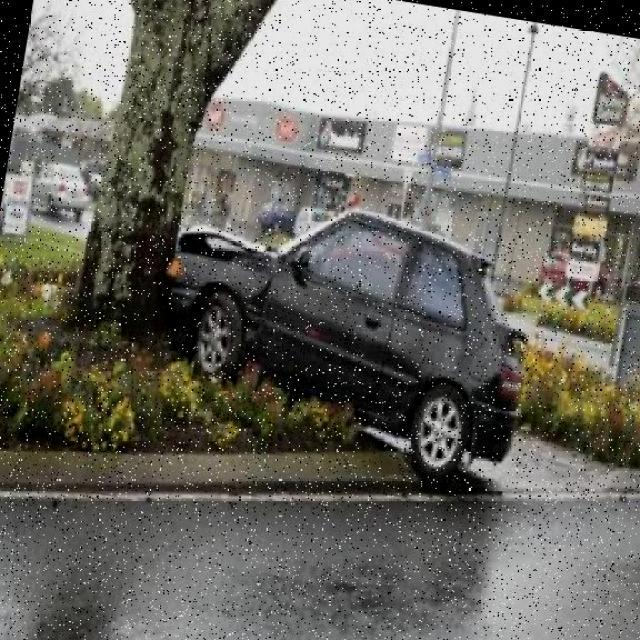accident: (121, 130, 576, 501)
